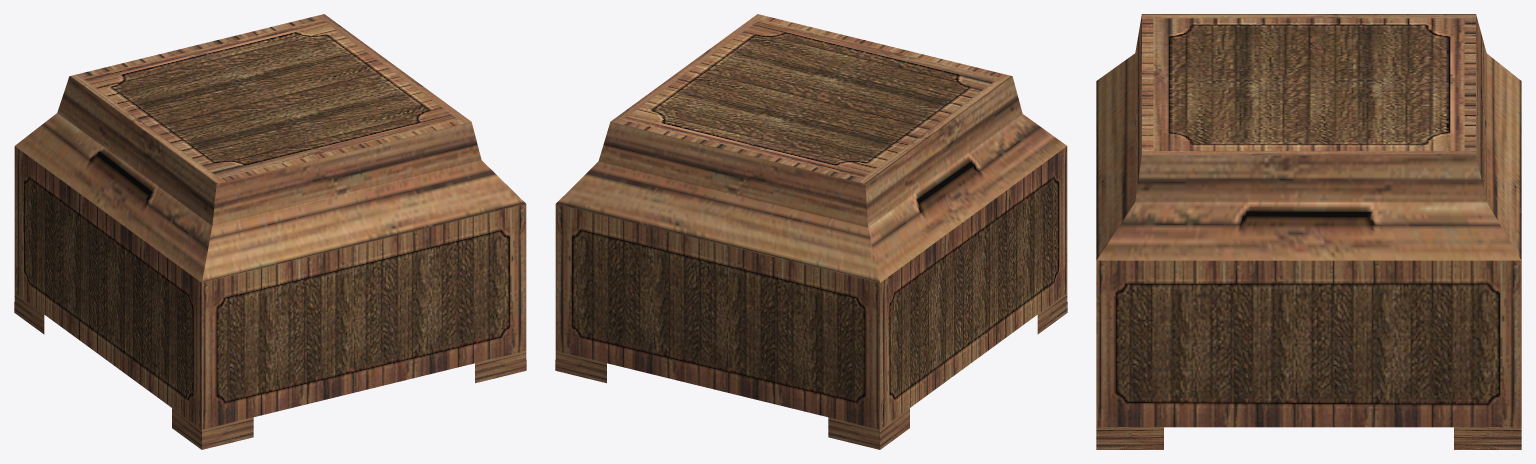
Rendered from frn_all_eleg_chest_s02_l1.fbx.
The picture shows the model from 3 angles, left to right: view 1: azimuth 30°, elevation 25°; view 2: azimuth 150°, elevation 25°; view 3: azimuth 270°, elevation 25°; orthographic projection. The views are drawn at different scales.
Parts seen in each view (by area): view 1: mesh_node; view 2: mesh_node; view 3: mesh_node.
Boxes of the visible parts, bbox=[...] form: mesh_node: bbox=[14, 14, 526, 449]; mesh_node: bbox=[555, 14, 1067, 449]; mesh_node: bbox=[1096, 14, 1521, 449].
Size of the model in its own units: 1.05 by 0.7469 by 1.05.
